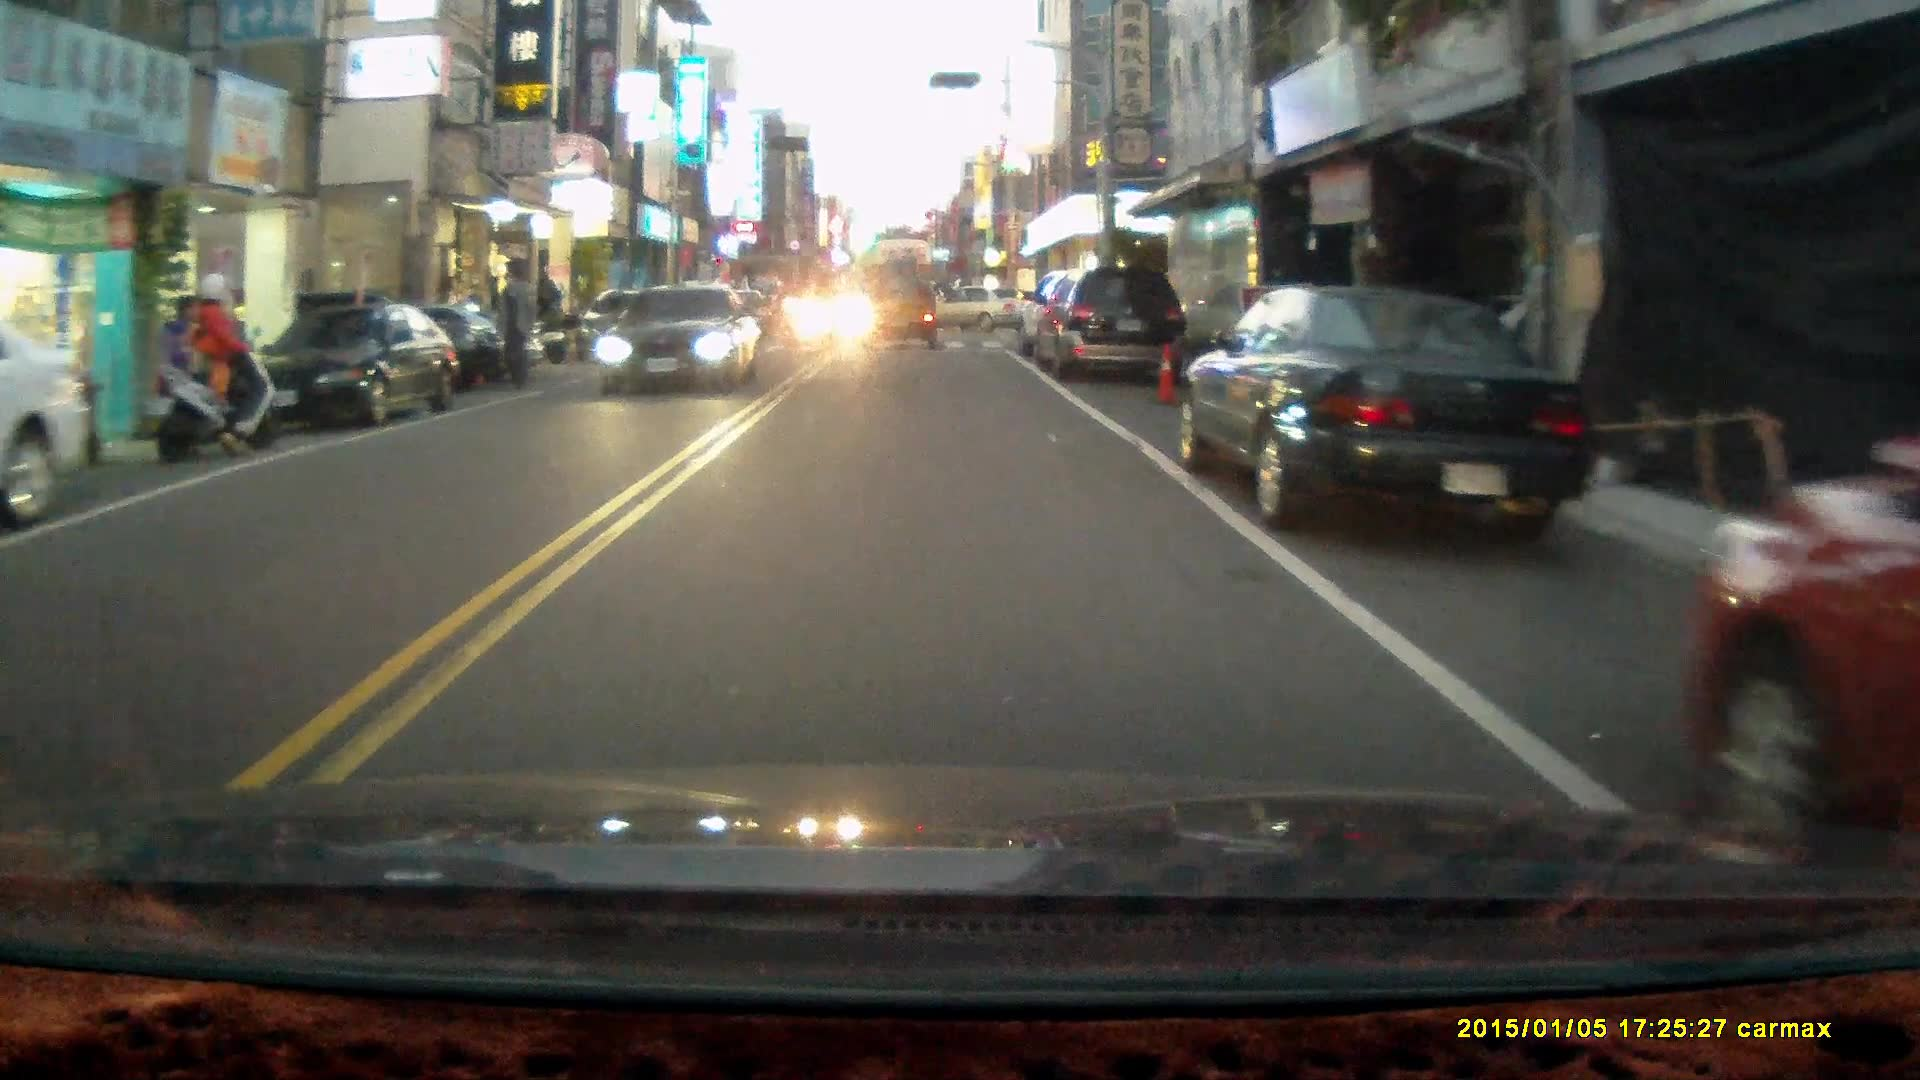pedestrian: (493, 265, 536, 393)
rider: (151, 270, 281, 455)
vehicle: (1174, 280, 1599, 549), (1683, 455, 1920, 883), (239, 298, 455, 427), (1029, 264, 1191, 380), (597, 280, 764, 392), (864, 264, 942, 353), (915, 286, 1044, 336)
